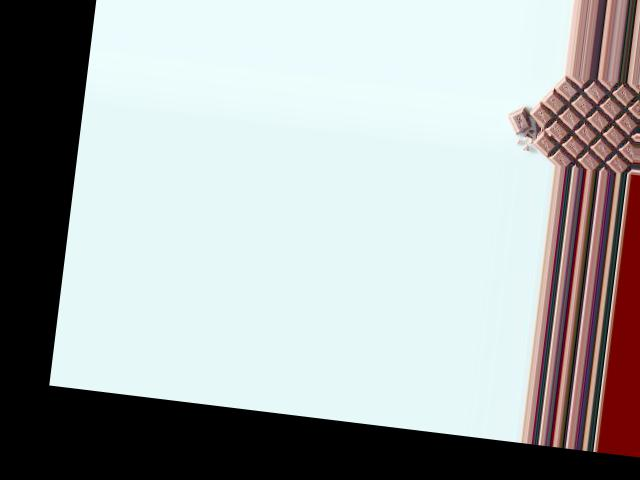chocolate: (516, 74, 640, 173)
